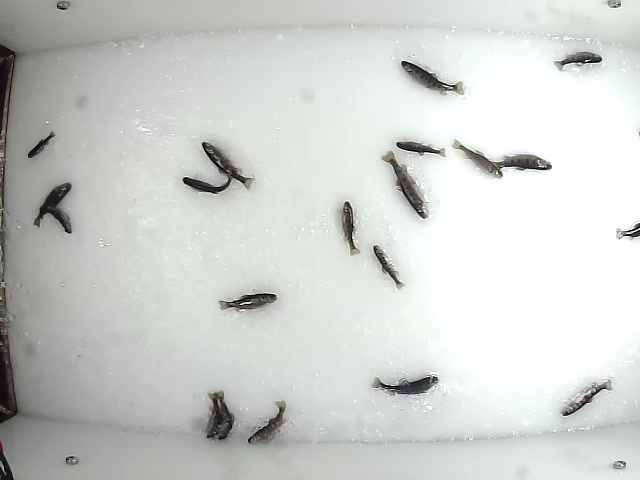fish: (381, 148, 435, 221), (201, 141, 255, 194), (398, 59, 466, 97), (450, 138, 506, 180), (559, 376, 615, 418), (30, 181, 73, 230), (247, 398, 290, 444), (368, 242, 405, 292), (368, 375, 439, 397), (485, 152, 554, 173), (41, 195, 75, 235), (181, 172, 236, 196), (218, 290, 277, 312), (550, 50, 603, 73), (340, 199, 361, 257), (213, 387, 234, 442), (202, 389, 224, 441), (393, 140, 450, 157), (24, 130, 56, 160)
